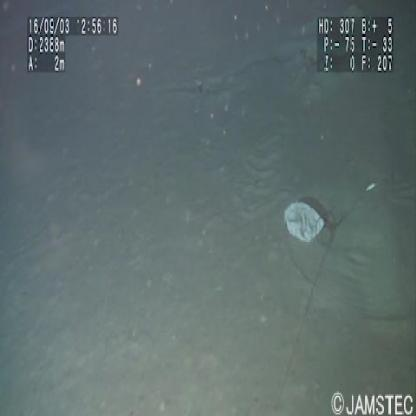Rác: (282, 196, 334, 257)
